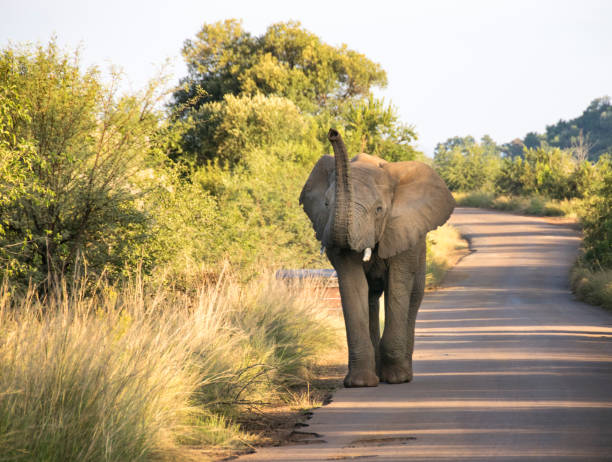africanelephant: (290, 138, 402, 276)
